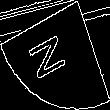N_NE: (31, 27, 79, 83)
